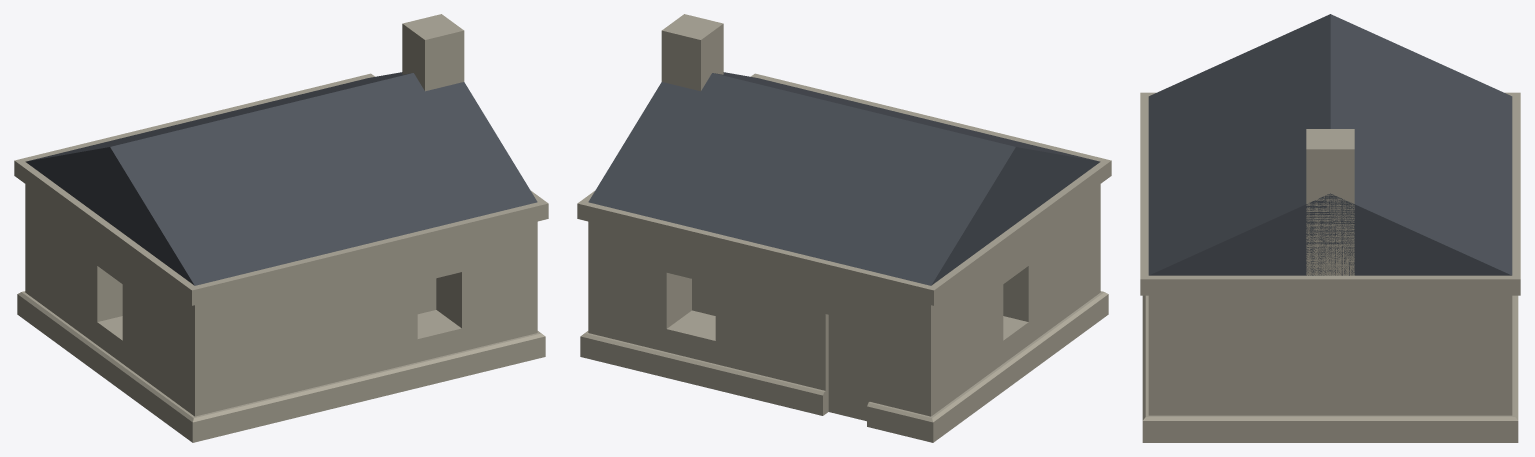
The picture shows the model from 3 angles, left to right: view 1: azimuth 30°, elevation 25°; view 2: azimuth 150°, elevation 25°; view 3: azimuth 270°, elevation 25°; orthographic projection. The views are drawn at different scales.
Visible parts, largest first — view 1: roof_slate, body_stone, trim_stone, roof_stone; view 2: roof_slate, body_stone, trim_stone, roof_stone; view 3: roof_slate, body_stone, trim_stone, roof_stone.
Boxes of the visible parts, <box> form: roof_slate: <box>25,72,537,285</box>; body_stone: <box>25,29,537,416</box>; trim_stone: <box>14,73,548,442</box>; roof_stone: <box>402,14,464,44</box>; roof_slate: <box>588,72,1100,285</box>; body_stone: <box>588,29,1100,421</box>; trim_stone: <box>577,73,1111,442</box>; roof_stone: <box>661,14,723,44</box>; roof_slate: <box>1148,14,1512,275</box>; body_stone: <box>1148,155,1512,415</box>; trim_stone: <box>1140,92,1520,442</box>; roof_stone: <box>1306,129,1354,154</box>.
Size of what is drawn, in the model's own units: 7.28 by 5.3 by 6.28.
